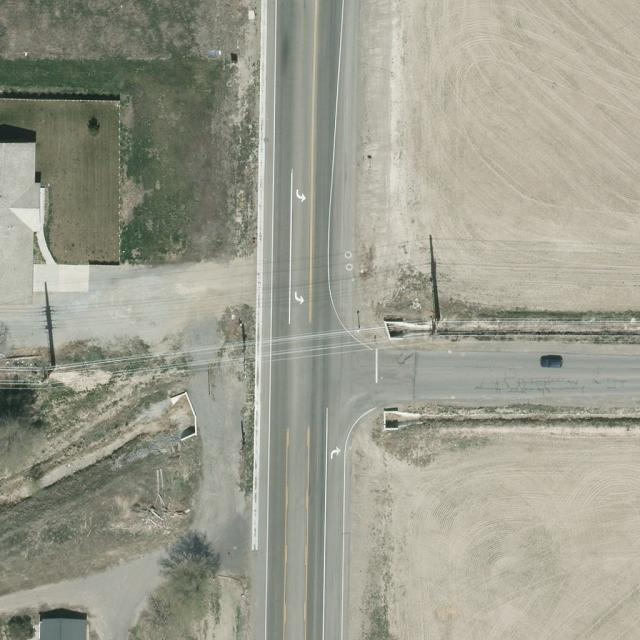vehicle: (540, 357, 562, 368)
